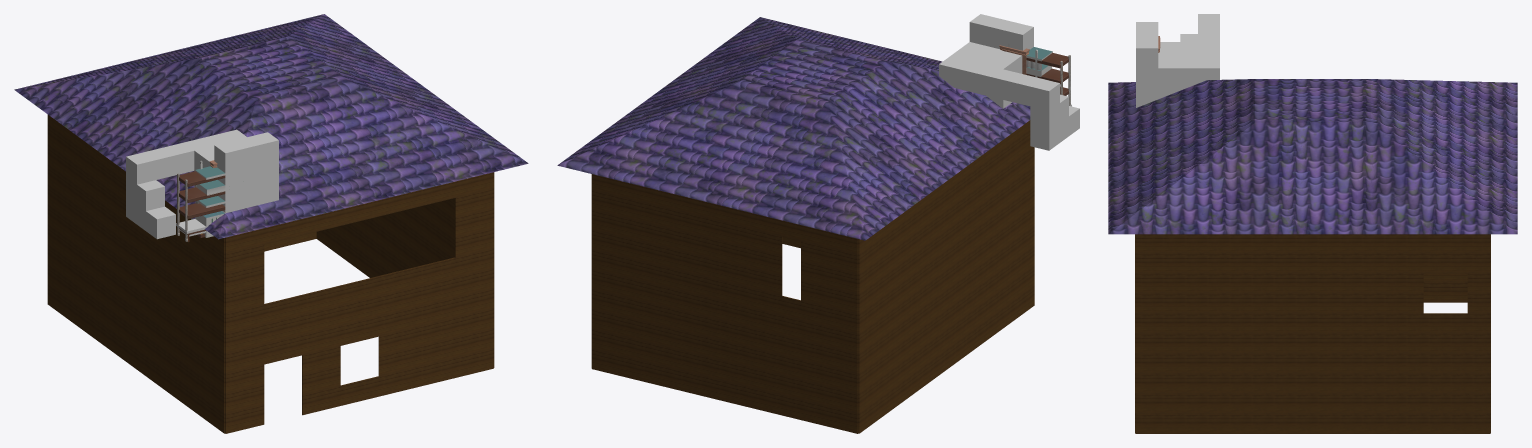
File: 香料店.fbx
3 views of the same model, side by side, from view 1: azimuth 30°, elevation 25°; view 2: azimuth 150°, elevation 25°; view 3: azimuth 270°, elevation 25° (orthographic).
Visible parts, largest first — view 1: 香料店外觀, 香料店屋頂, 香料店樓梯轉腳, 桌子17, 桌子19; view 2: 香料店外觀, 香料店屋頂, 香料店樓梯轉腳, 桌子17; view 3: 香料店外觀, 香料店屋頂, 香料店樓梯轉腳.
Boxes of the visible parts, bbox=[...] form: 香料店外觀: bbox=[47, 114, 494, 433]; 香料店屋頂: bbox=[14, 14, 528, 239]; 香料店樓梯轉腳: bbox=[126, 129, 278, 239]; 桌子17: bbox=[177, 171, 225, 241]; 桌子19: bbox=[195, 160, 225, 237]; 香料店外觀: bbox=[591, 120, 1034, 433]; 香料店屋頂: bbox=[557, 17, 1030, 240]; 香料店樓梯轉腳: bbox=[939, 14, 1079, 150]; 桌子17: bbox=[1026, 53, 1070, 105]; 香料店外觀: bbox=[1135, 234, 1490, 433]; 香料店屋頂: bbox=[1108, 79, 1517, 234]; 香料店樓梯轉腳: bbox=[1136, 14, 1219, 107].
Bounding box in the file's own units: 1814 × 1400 × 1851.
